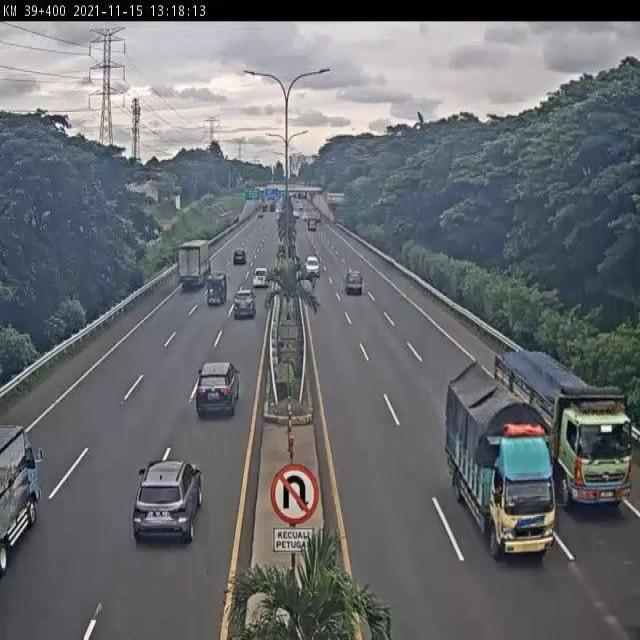car: (132, 459, 204, 545), (195, 358, 240, 418), (232, 288, 257, 317)
truck-l-: (496, 354, 634, 502), (178, 238, 213, 290)
truck-m-: (443, 360, 557, 560)
truck-s-: (205, 272, 228, 307)
